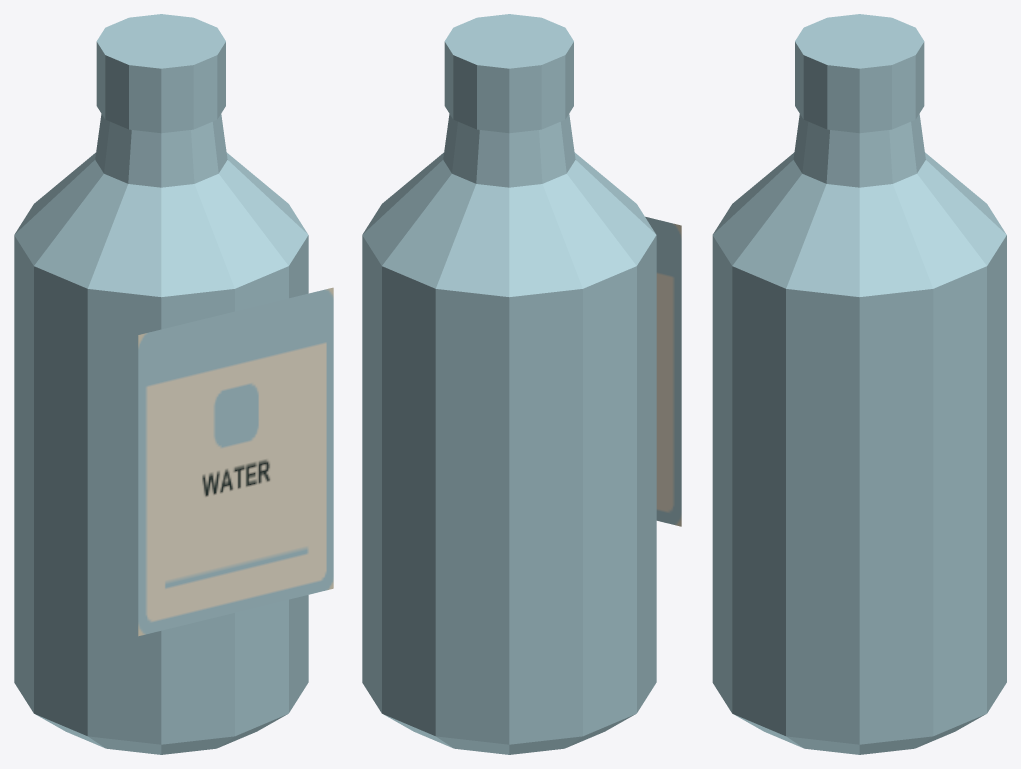
Rendered from water.fbx.
3 renders of one model, left to right at view 1: azimuth 30°, elevation 25°; view 2: azimuth 150°, elevation 25°; view 3: azimuth 270°, elevation 25°, orthographic.
Parts seen in each view (by area): view 1: water; view 2: water; view 3: water.
Part boxes in pixels (left/top/right/bottom): water: left=14, top=14, right=333, bottom=754; water: left=362, top=14, right=681, bottom=754; water: left=712, top=14, right=1006, bottom=754.
Bounding box in the file's own units: 12.4 × 31 × 12.5.
